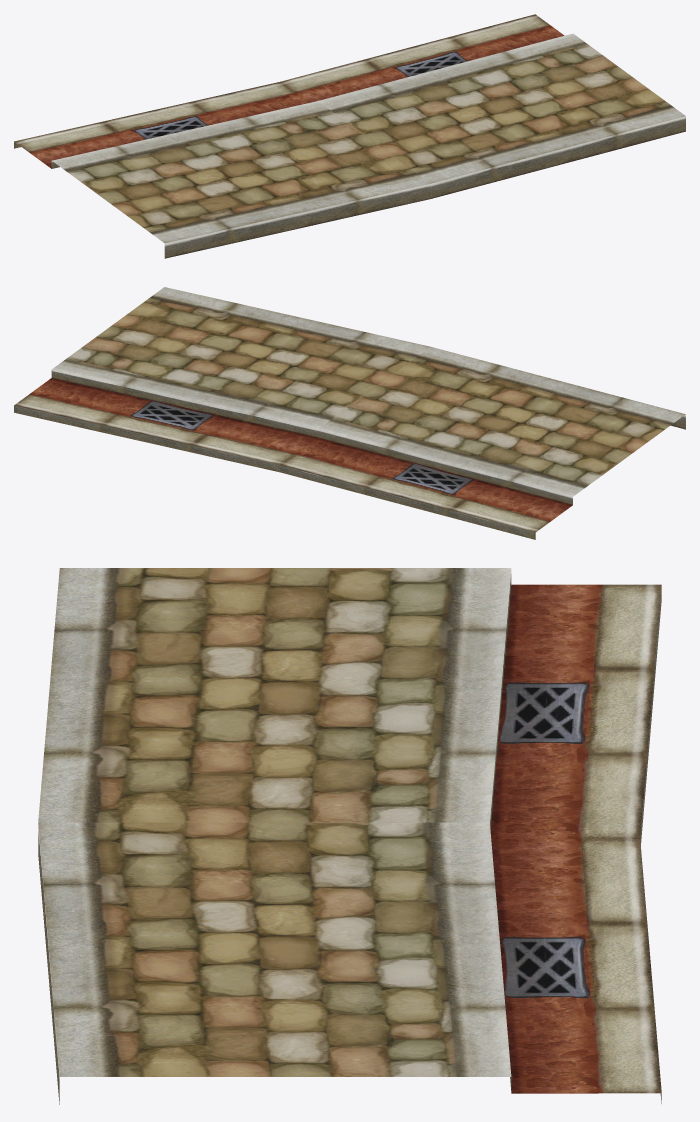
File: obj_masabkside02.glb
3 renders of one model, top to bottom at view 1: azimuth 30°, elevation 25°; view 2: azimuth 150°, elevation 25°; view 3: azimuth 270°, elevation 25°, orthographic. The views are drawn at different scales.
Visible parts, largest first — view 1: part_0; view 2: part_0; view 3: part_0.
Boxes of the visible parts, x1=… form: part_0: x1=14, y1=14, x2=685, y2=258; part_0: x1=14, y1=287, x2=685, y2=539; part_0: x1=38, y1=568, x2=661, y2=1104.
Size of the model in its own units: 8 by 0.2275 by 4.14.
Materials: 1 (1 with a texture image).
